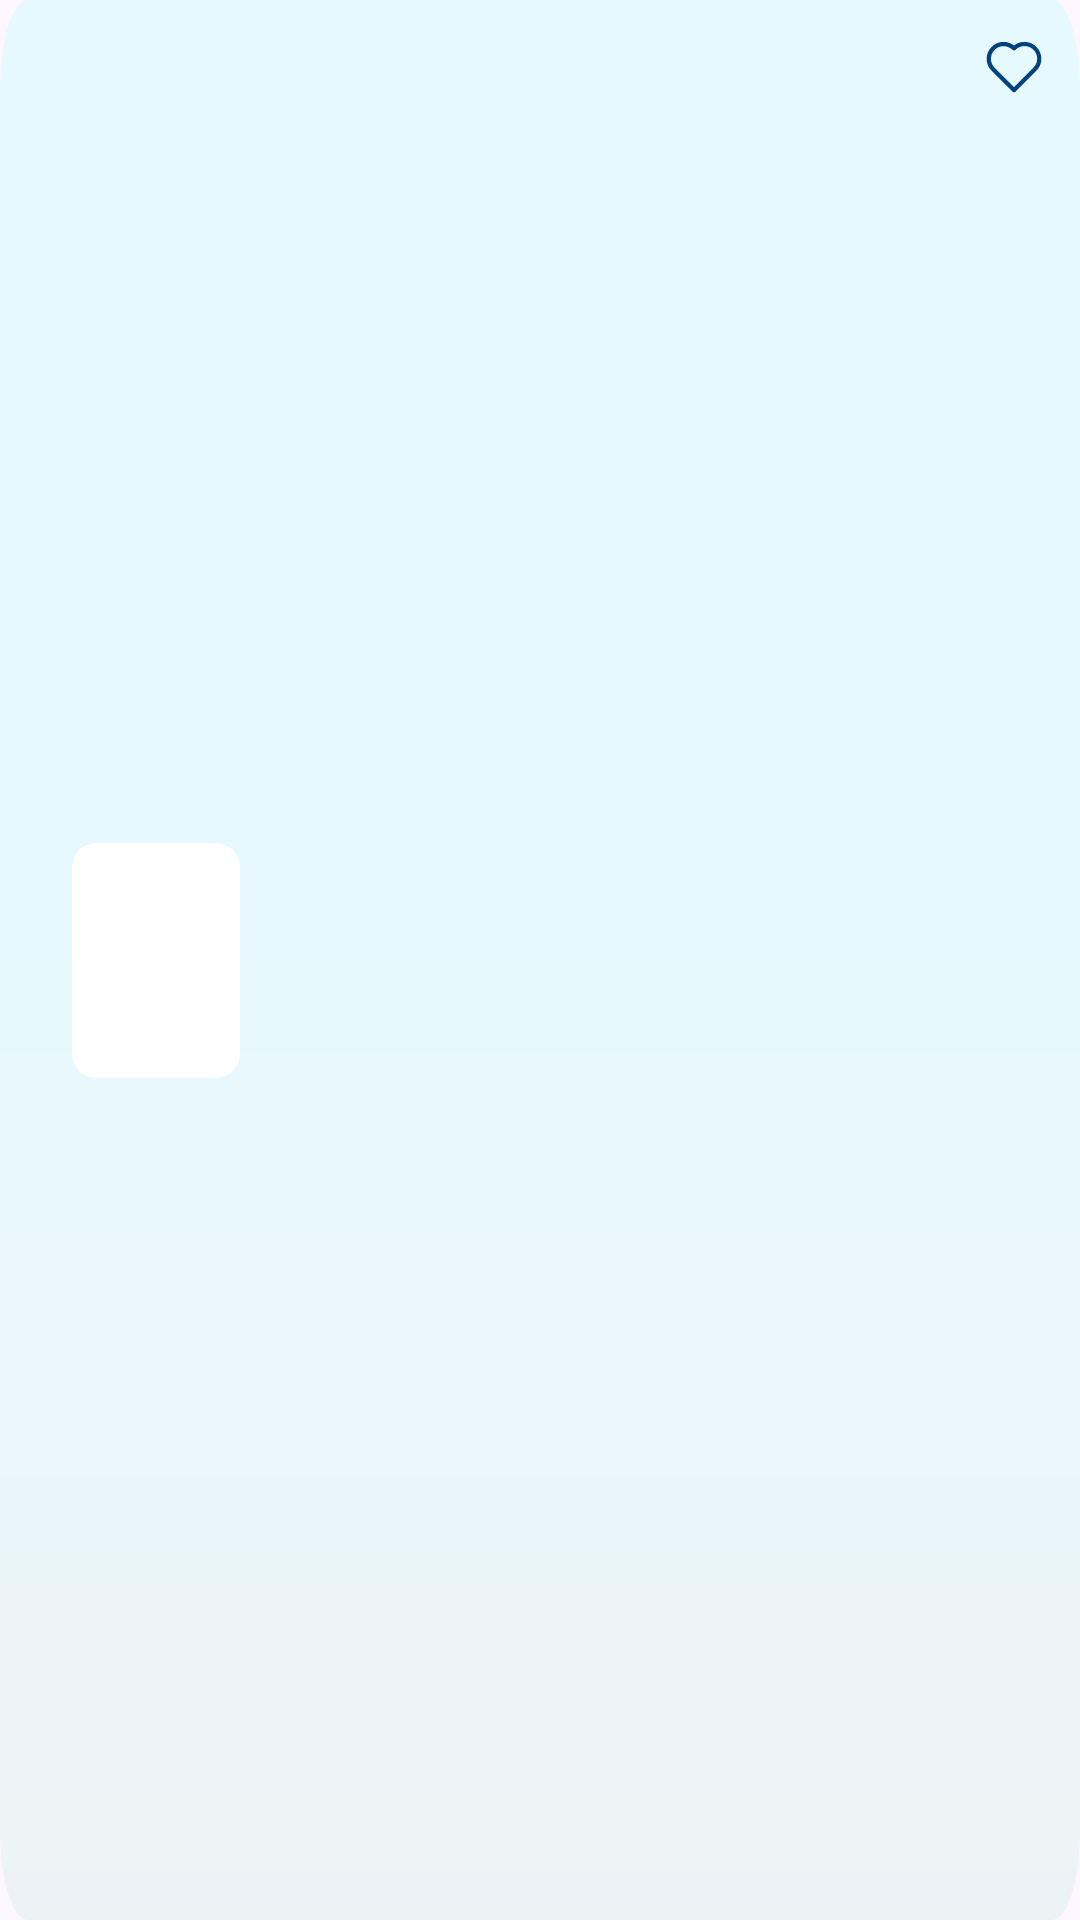

Where icons sit on this 1080 x 1920 app screen, as bbox=[x1, y1, x2, y2]:
favorite check: bbox=[986, 42, 1042, 93]
